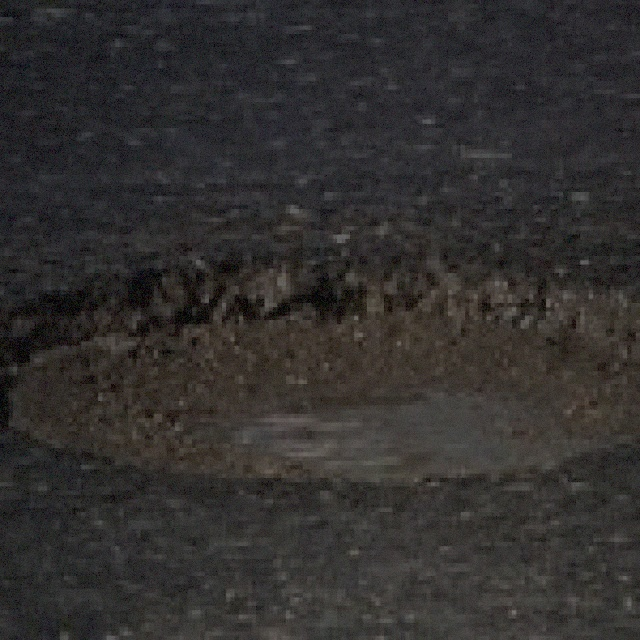pothole: (8, 239, 623, 499)
